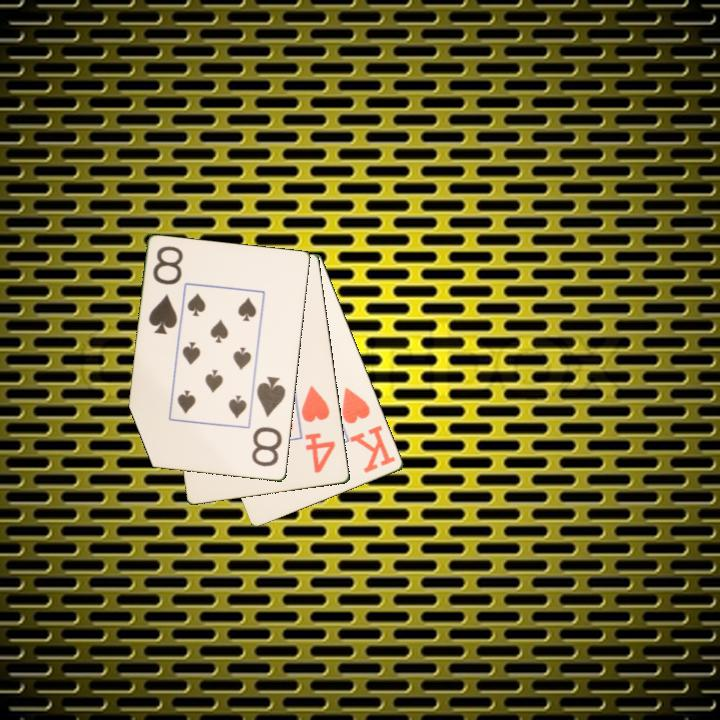4h: (298, 382, 339, 476)
8s: (248, 373, 289, 470), (145, 243, 186, 337)
Kh: (338, 384, 399, 476)
